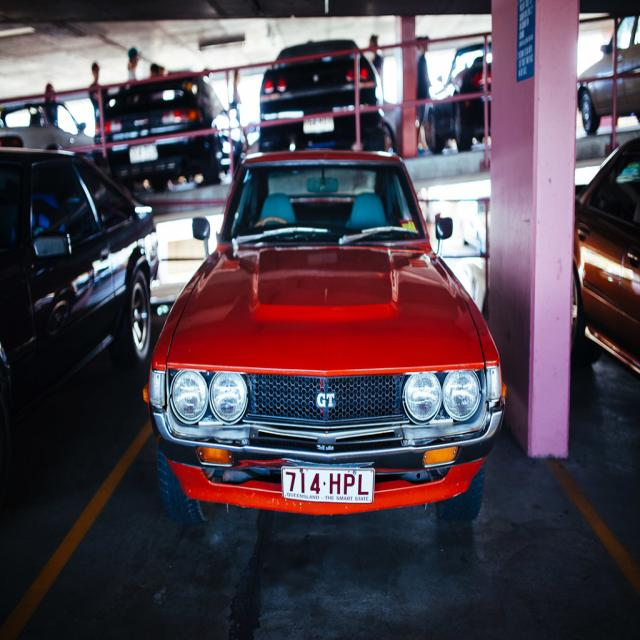car: (142, 148, 503, 520)
